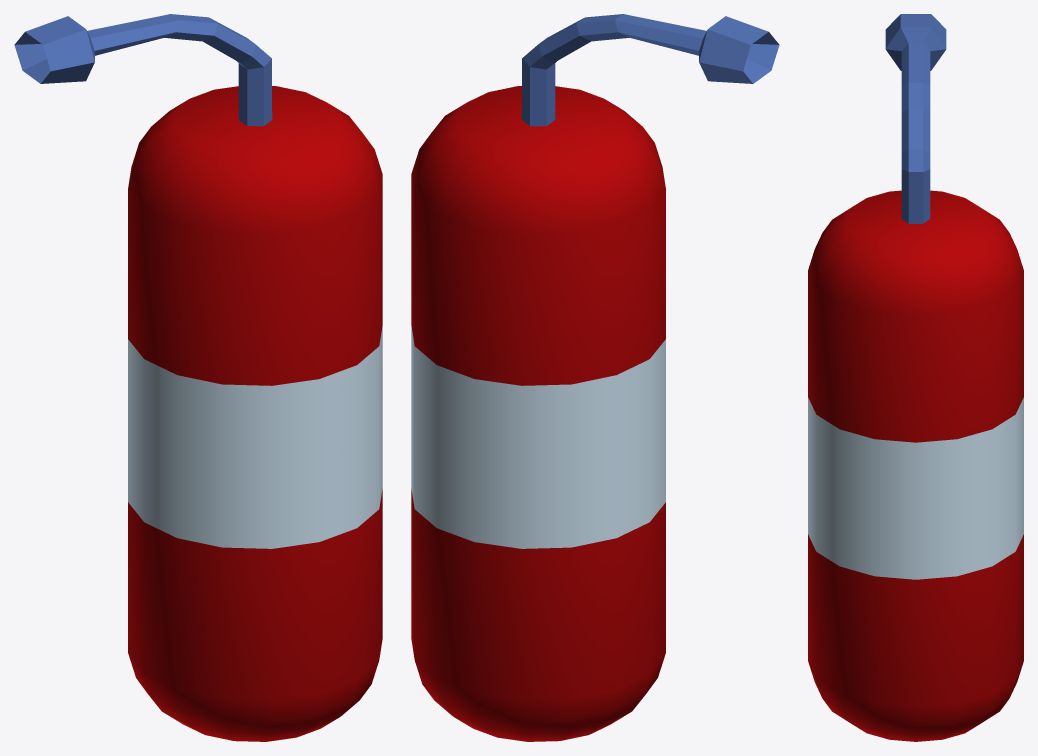
The model's file is 6 punching bag.fbx.
The picture shows the model from 3 angles, left to right: view 1: azimuth 30°, elevation 25°; view 2: azimuth 150°, elevation 25°; view 3: azimuth 270°, elevation 25°; orthographic projection. The views are drawn at different scales.
Visible parts, largest first — view 1: 5 punching bag; view 2: 5 punching bag; view 3: 5 punching bag.
Part boxes in pixels (left/top/right/bottom): 5 punching bag: left=14, top=14, right=382, bottom=741; 5 punching bag: left=411, top=14, right=779, bottom=741; 5 punching bag: left=808, top=14, right=1023, bottom=741.
Size of the model in its own units: 28.15 by 58.48 by 18.68.
